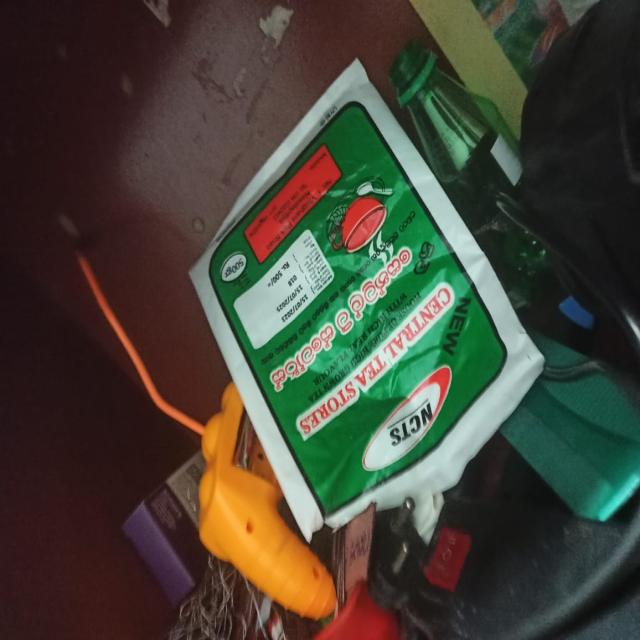Central Tea: (187, 116, 511, 528)
